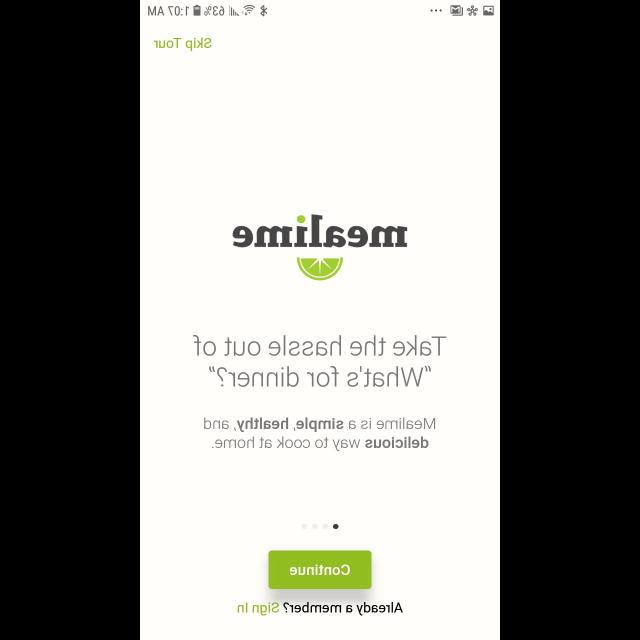image: (232, 214, 408, 248), (297, 258, 343, 280)
pageindicator: (301, 523, 339, 529)
text: (193, 335, 447, 387), (203, 417, 434, 451), (238, 602, 402, 616), (153, 38, 211, 52)
textbutton: (268, 550, 372, 590)
uppertaskbar: (140, 1, 500, 18)
